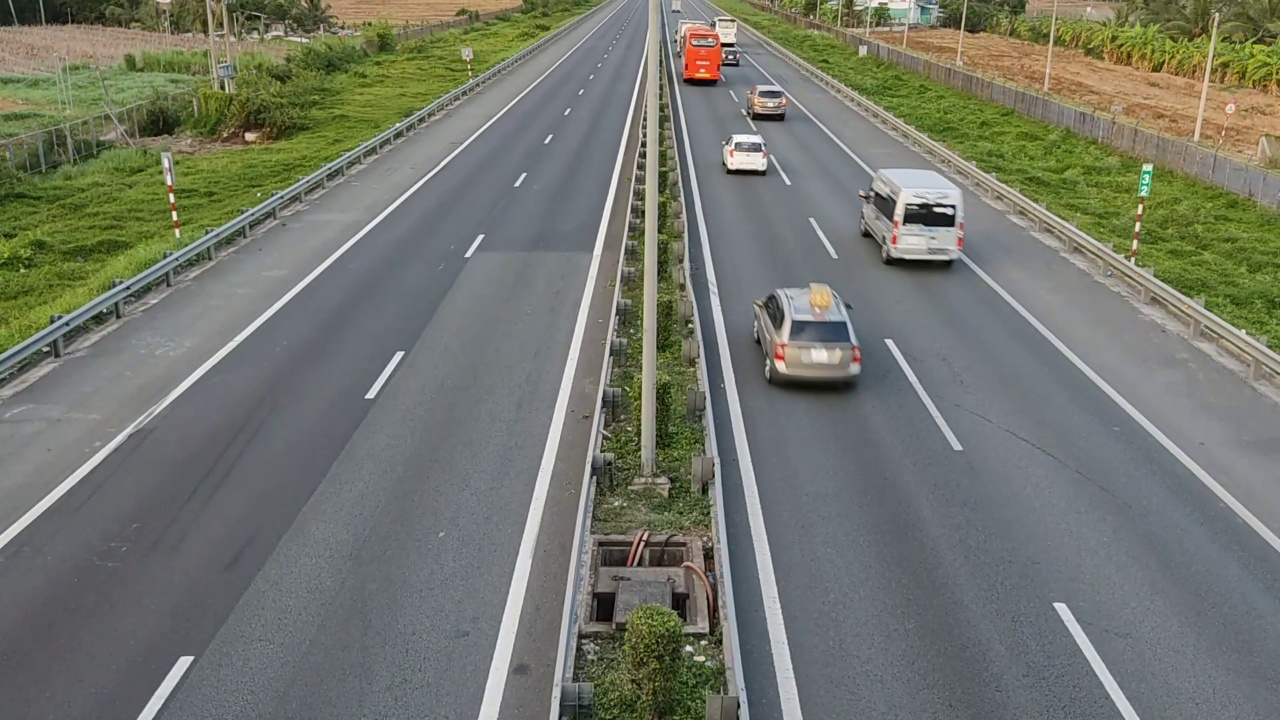car: (751, 282, 863, 387), (856, 165, 966, 267), (721, 133, 768, 175), (745, 85, 789, 121)
